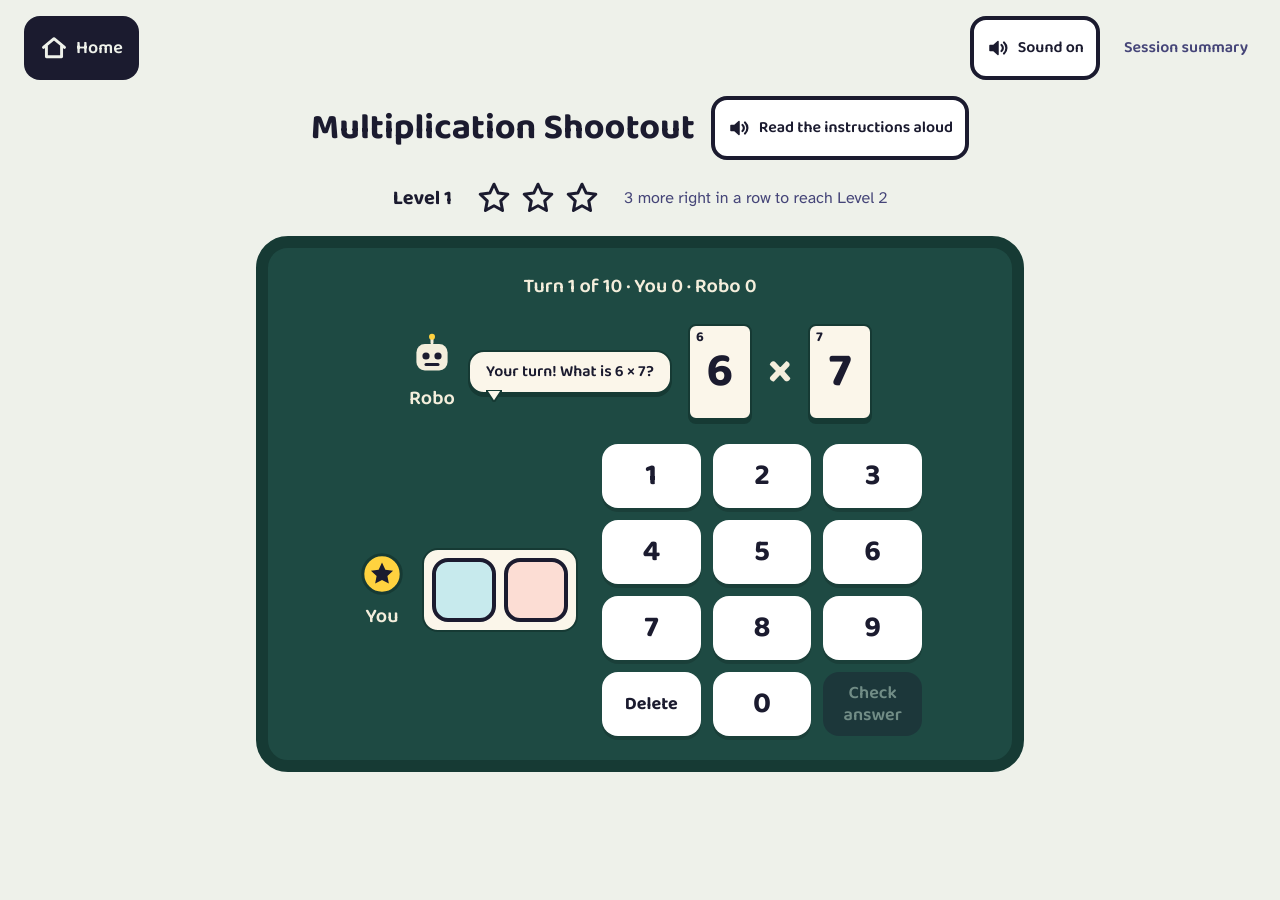
it: a failed answer keeps the typed digits
The width and height of the screenshot is (1280, 900).
What coordinates should you click on to do the following:
click the button "4"
I would click on:
 (651, 552)
Its box is left=602, top=520, right=701, bottom=584.
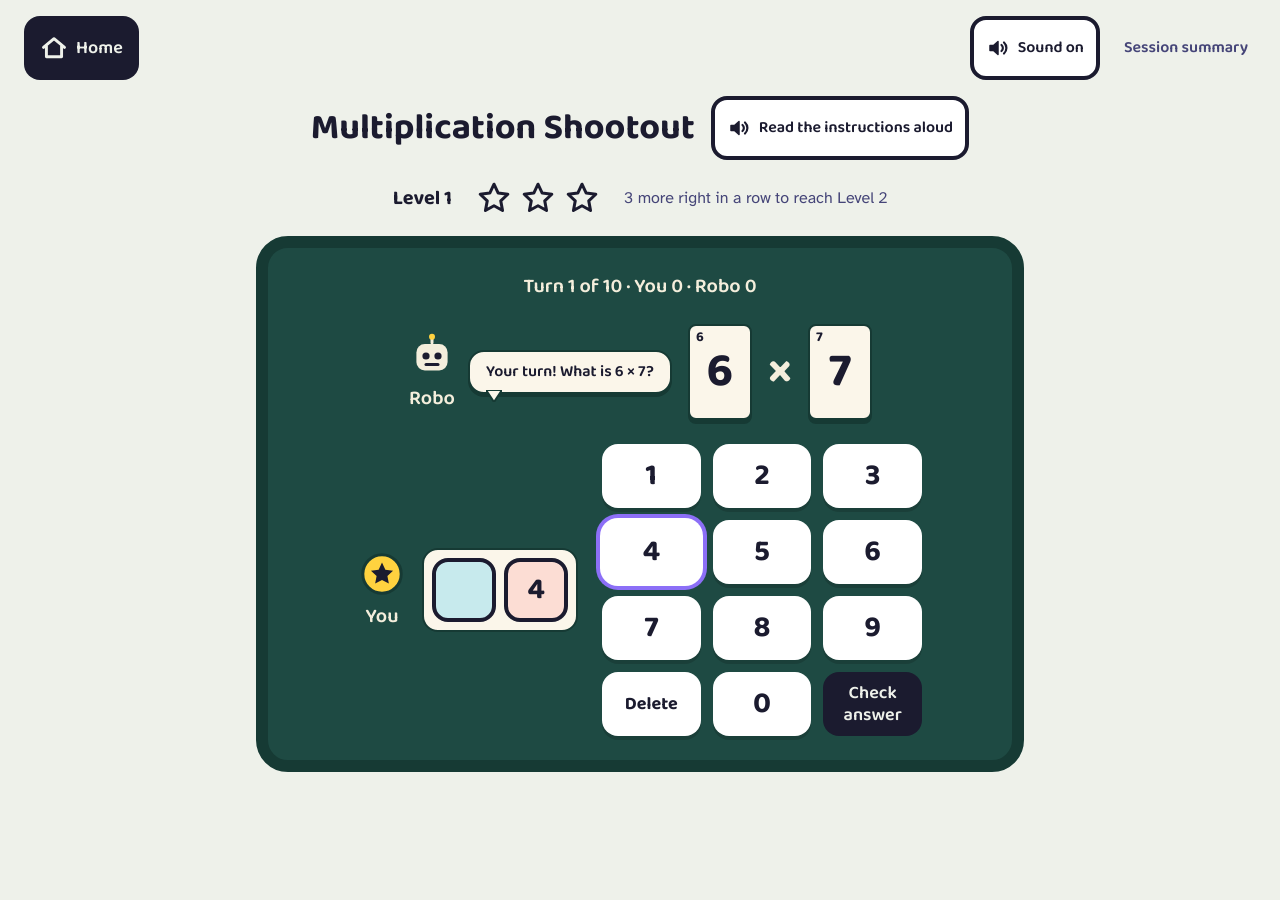
What coordinates should you click on to do the following:
click the button "2"
I would click on:
 (762, 476)
Its box is left=713, top=444, right=811, bottom=508.
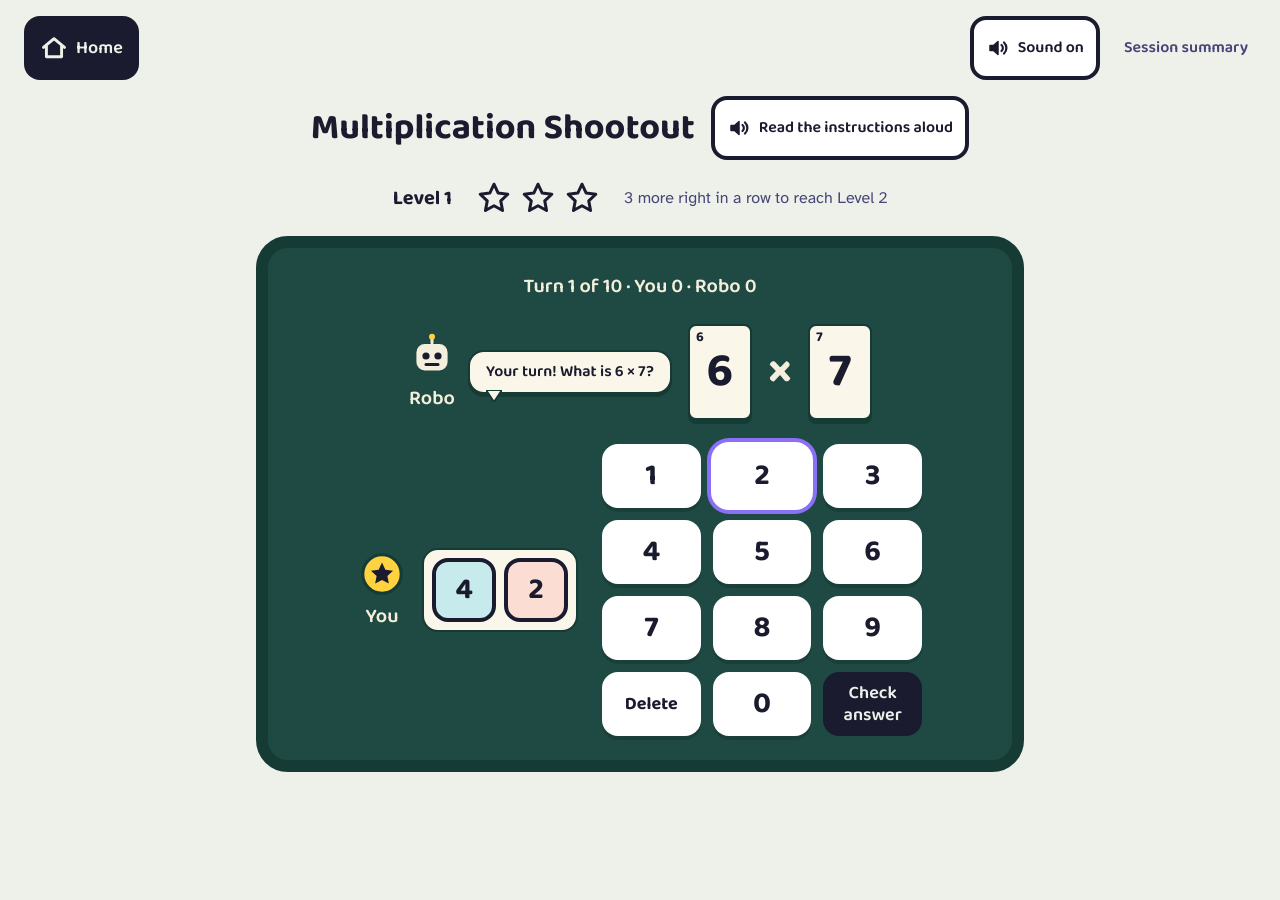
What coordinates should you click on to do the following:
click the button "Check answer"
I would click on:
 (873, 704)
Its box is left=823, top=672, right=922, bottom=736.
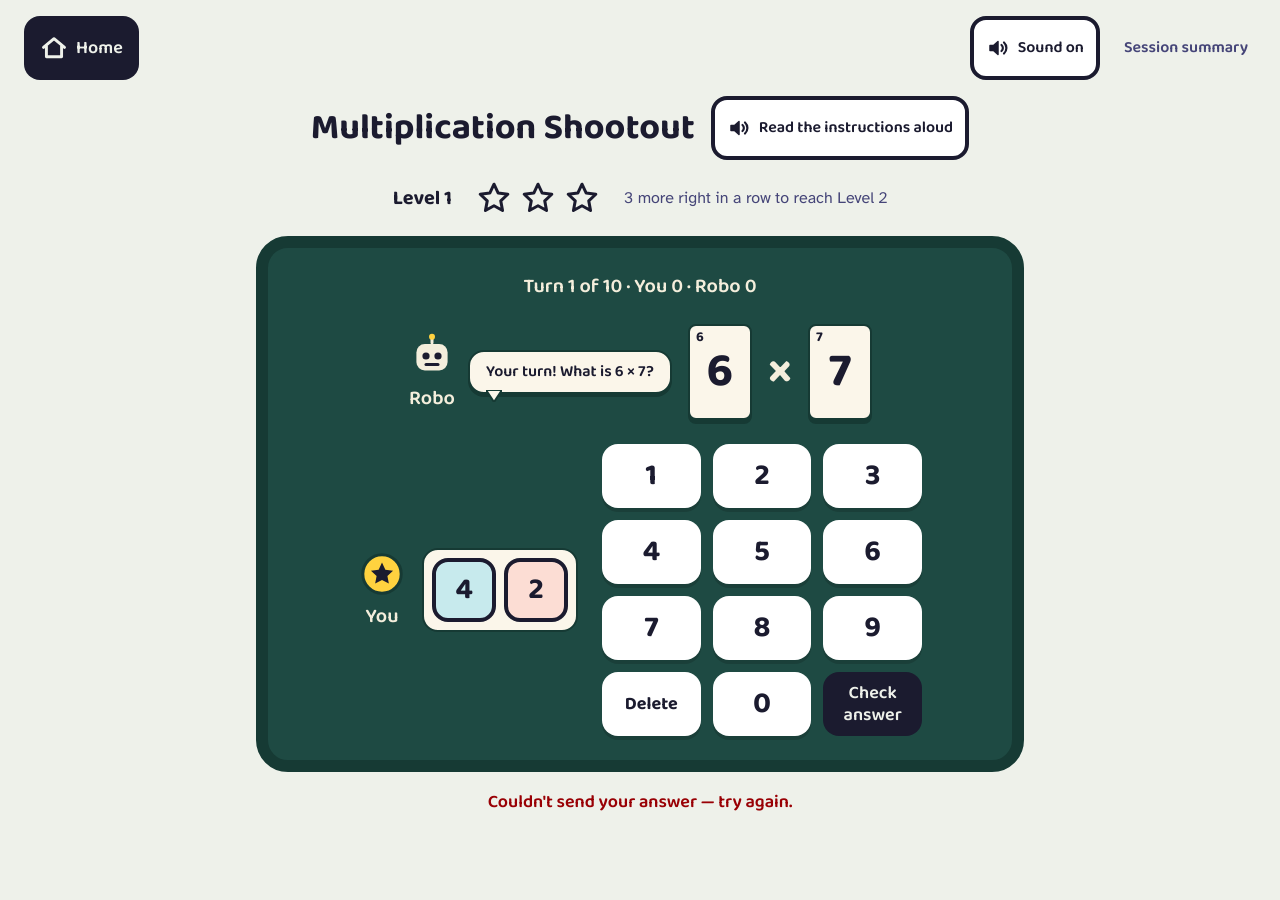
Expected: the text "Couldn't send your answer — try again." is shown, left=488, top=788, right=792, bottom=816
